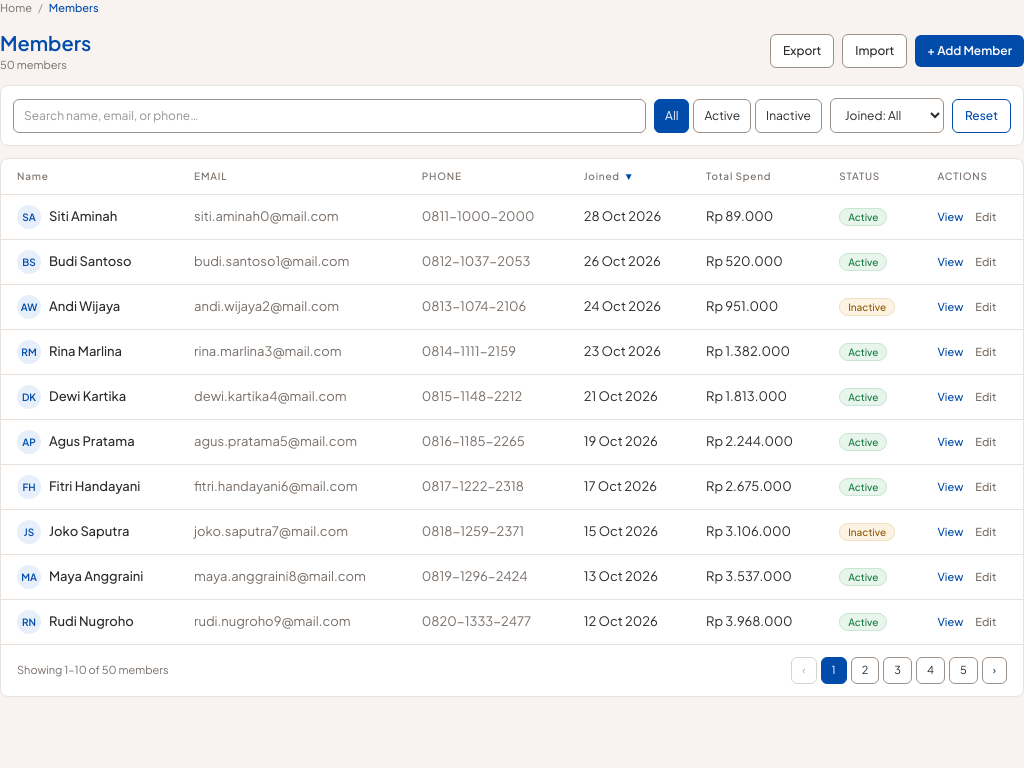
Scenario: member page › opens the export and import dialogs
Click the button "Export": {"x": 802, "y": 51} [770,34,834,68]
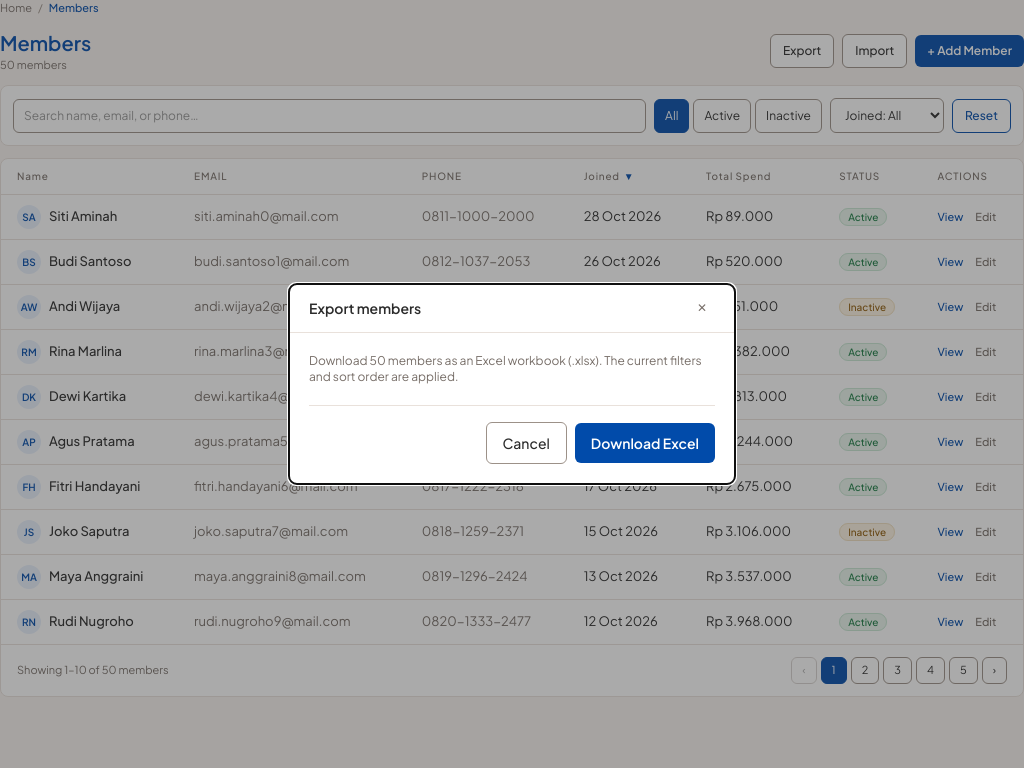
Result: the dialog "Export members" is shown at [288,283,736,485]
Click the button "Cancel": {"x": 526, "y": 443} [486,422,567,464]
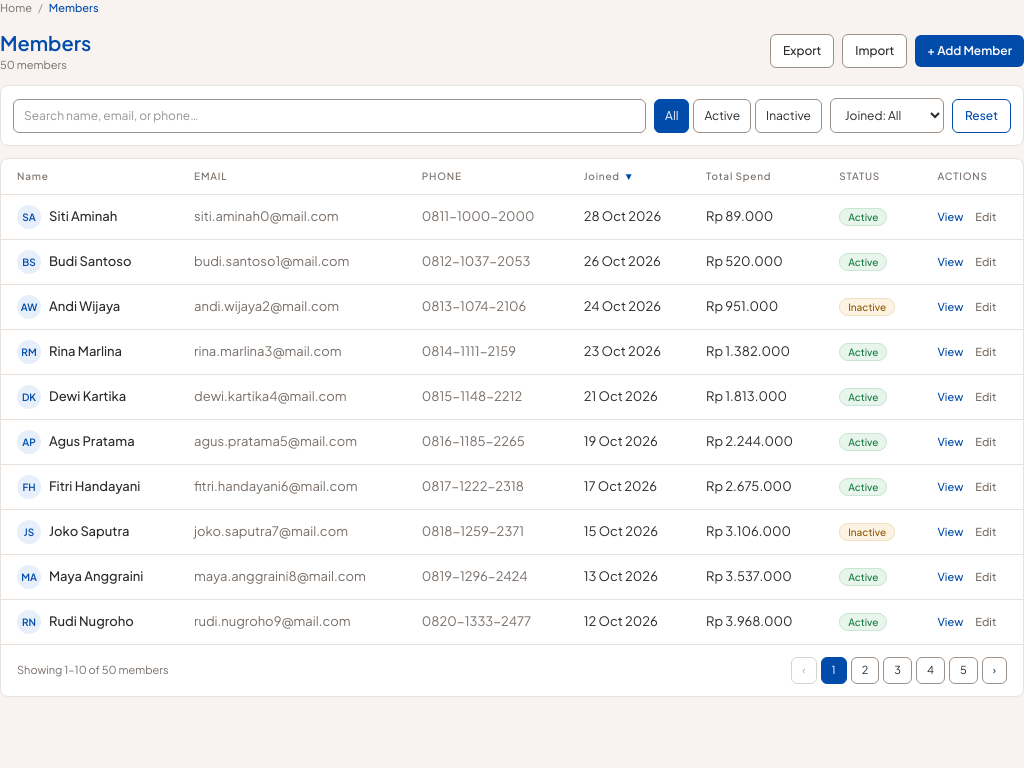
Result: the dialog is gone
Click the button "Import": {"x": 875, "y": 51} [842,34,907,68]
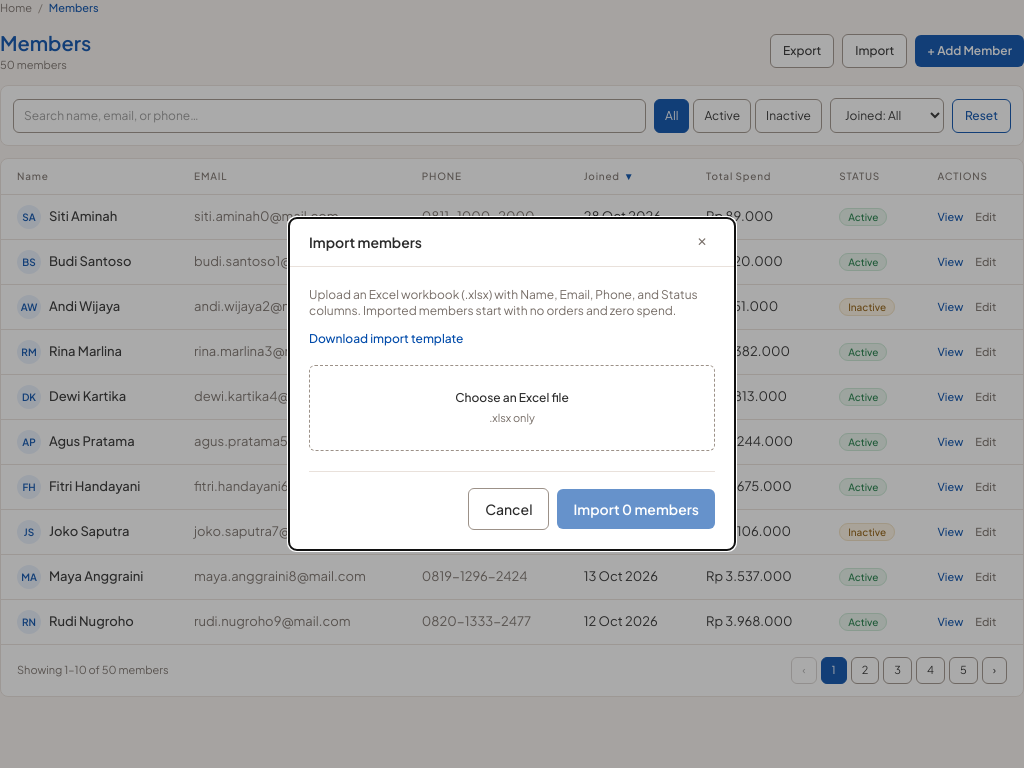
Result: the dialog "Import members" is shown at [288,217,736,551]
